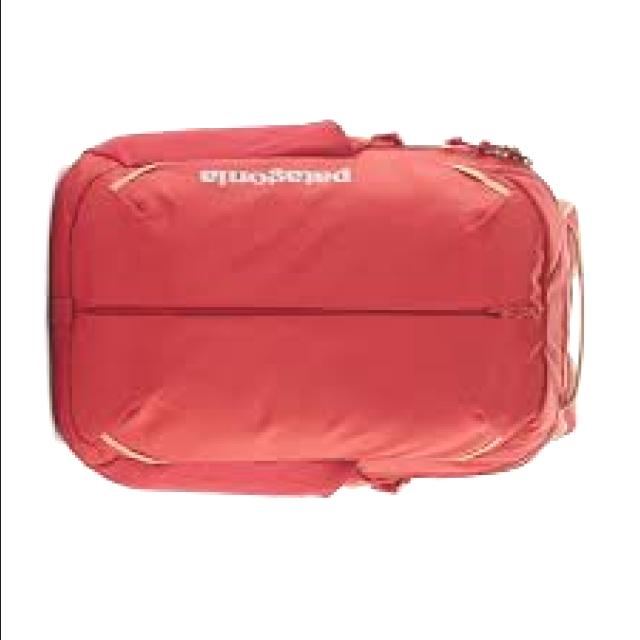backpack: (49, 118, 587, 499)
